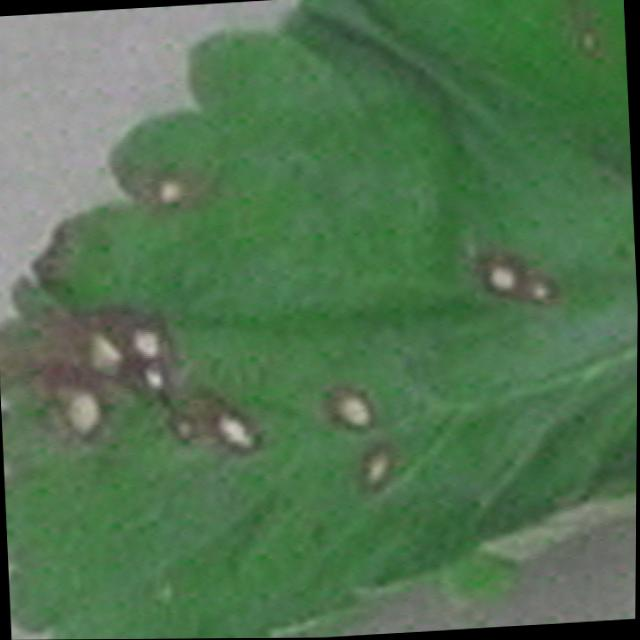Leaf Spot: (0, 0, 638, 640)
